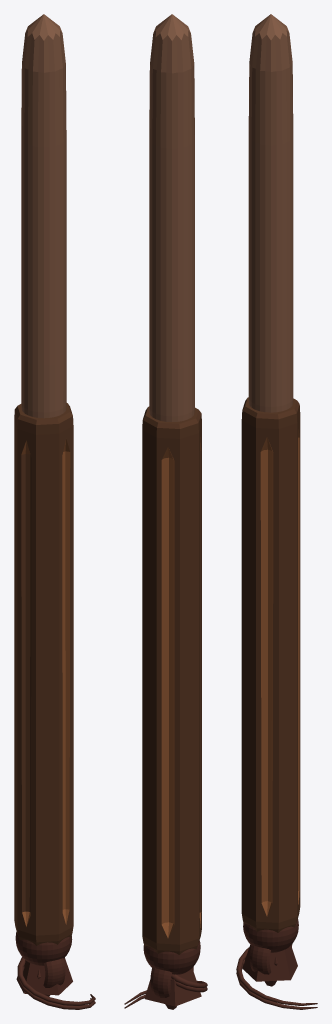
File: Wand 519.glb
3 views of the same model, side by side, from view 1: azimuth 30°, elevation 25°; view 2: azimuth 150°, elevation 25°; view 3: azimuth 330°, elevation 25° (orthographic). The views are drawn at different scales.
Visible parts, largest first — view 1: GeneratedWand, Pommel_4, Pommel_9, Pommel_2, Pommel_10; view 2: GeneratedWand, Pommel_4, Pommel_9, Pommel_2, Pommel_10; view 3: GeneratedWand, Pommel_9, Pommel_4, Pommel_2, Pommel_10.
Boxes of the visible parts, box(x1,y1,x2,y2) form: GeneratedWand: box(14, 14, 95, 1005); Pommel_4: box(15, 931, 72, 965); Pommel_9: box(16, 958, 72, 995); Pommel_2: box(43, 958, 65, 987); Pommel_10: box(17, 966, 95, 1009); GeneratedWand: box(124, 14, 207, 1004); Pommel_4: box(143, 940, 200, 974); Pommel_9: box(144, 968, 201, 1006); Pommel_2: box(150, 967, 193, 997); Pommel_10: box(124, 978, 207, 1008); GeneratedWand: box(236, 14, 317, 1005); Pommel_9: box(242, 945, 297, 981); Pommel_4: box(243, 919, 298, 952); Pommel_2: box(249, 944, 292, 974); Pommel_10: box(236, 959, 317, 1009).
Bounding box in the file's own units: 0.0402 × 0.5181 × 0.0347.
